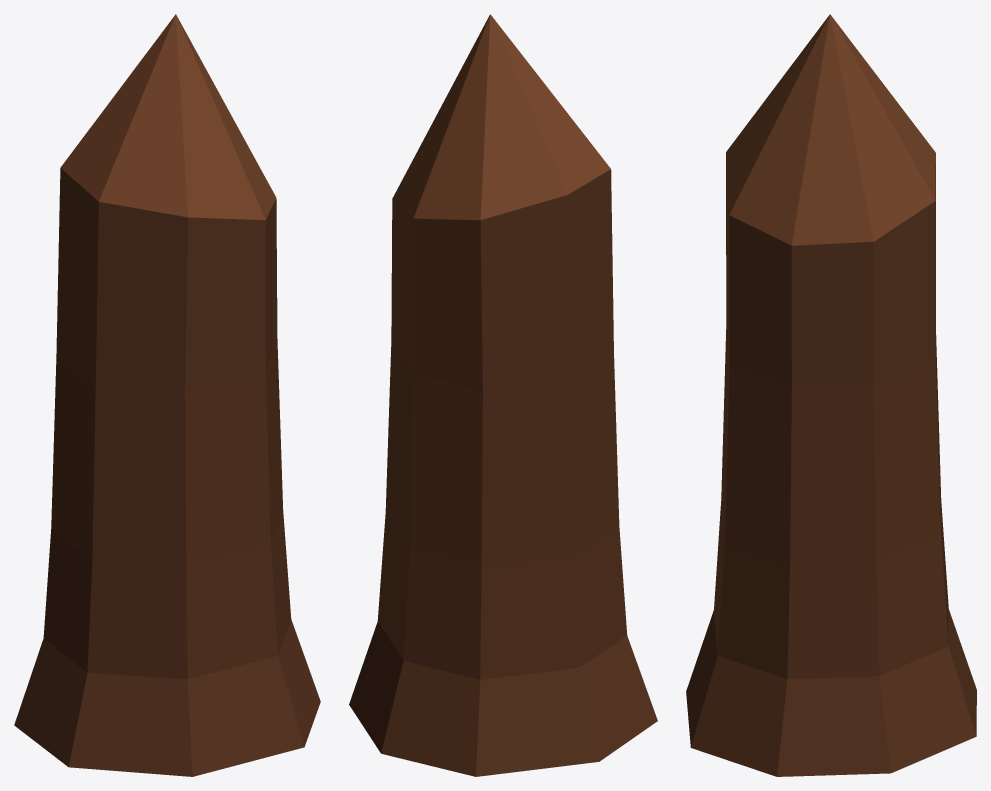
Rendered from tree-3.fbx.
The picture shows the model from 3 angles, left to right: view 1: azimuth 30°, elevation 25°; view 2: azimuth 150°, elevation 25°; view 3: azimuth 270°, elevation 25°; orthographic projection.
Parts seen in each view (by area): view 1: tree-3; view 2: tree-3; view 3: tree-3.
Part boxes in pixels (<box>): tree-3: <box>14,14,320,776</box>; tree-3: <box>349,14,657,776</box>; tree-3: <box>686,14,976,776</box>.
Size of the model in its own units: 29.39 by 76.39 by 28.58.
